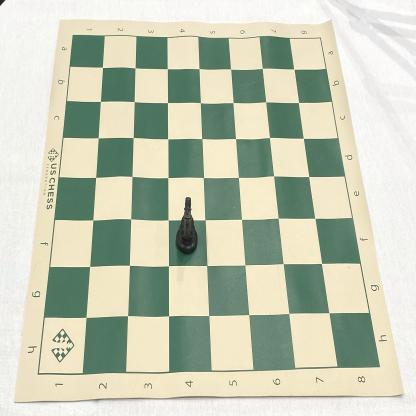black-knight: (175, 196, 198, 255)
